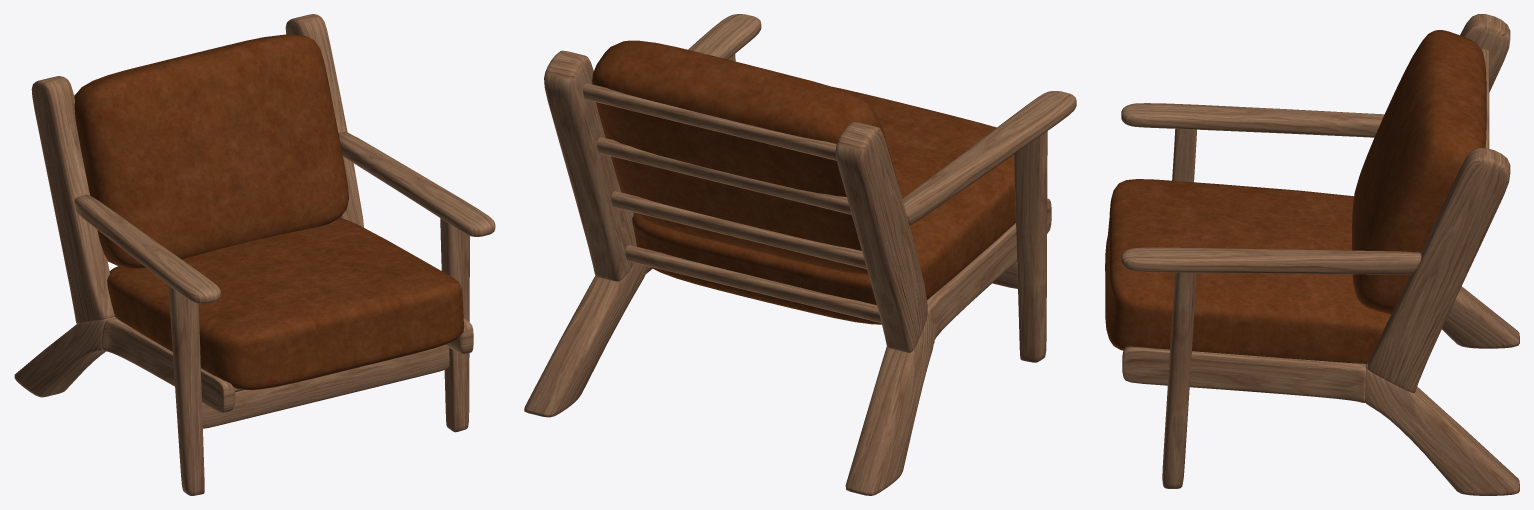
Rendered from armchair9.glb.
The picture shows the model from 3 angles, left to right: view 1: azimuth 30°, elevation 25°; view 2: azimuth 150°, elevation 25°; view 3: azimuth 270°, elevation 25°; orthographic projection. The views are drawn at different scales.
Parts seen in each view (by area): view 1: Object_2; view 2: Object_2; view 3: Object_2.
Boxes of the visible parts, bbox=[...] form: Object_2: bbox=[14, 14, 495, 495]; Object_2: bbox=[524, 14, 1076, 495]; Object_2: bbox=[1105, 14, 1519, 495].
Size of the model in its own units: 1.06 by 1.04 by 1.15.
1 material, 1 textured.
